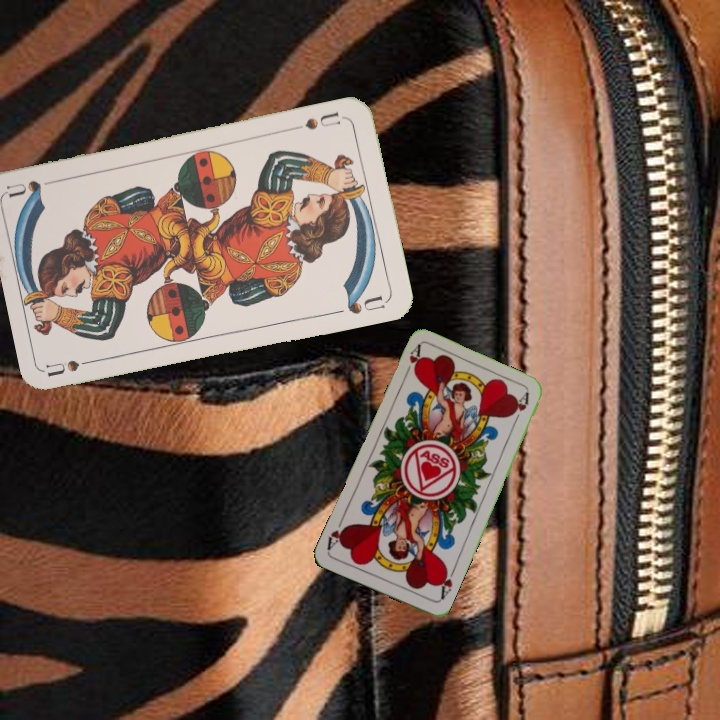HA: (400, 341, 425, 380), (434, 564, 458, 602)
SU: (290, 108, 349, 133), (44, 354, 103, 379)
